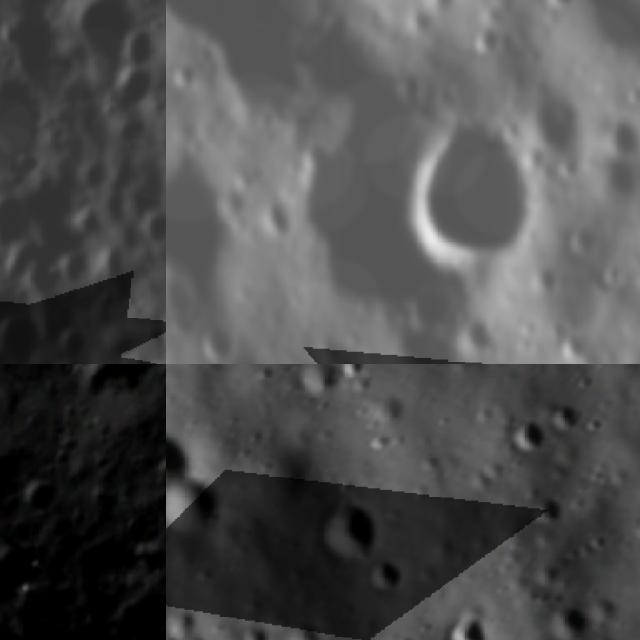crater: (411, 96, 547, 283), (166, 153, 240, 300), (0, 80, 55, 186), (2, 9, 62, 100), (69, 0, 140, 75), (316, 494, 393, 560), (78, 364, 166, 414), (166, 477, 228, 540), (9, 466, 69, 531), (121, 154, 166, 231), (110, 65, 166, 117), (187, 314, 242, 364), (0, 311, 46, 364), (458, 314, 508, 360), (0, 197, 38, 256), (50, 318, 98, 364), (0, 601, 54, 640), (508, 412, 550, 462), (359, 552, 407, 592), (465, 19, 508, 63), (567, 219, 603, 268), (62, 244, 97, 292), (95, 242, 129, 290), (166, 416, 187, 493), (296, 364, 342, 399), (550, 600, 590, 640), (444, 610, 495, 640), (530, 491, 565, 533), (545, 395, 582, 434), (166, 602, 202, 636), (284, 622, 330, 640), (240, 621, 277, 640), (618, 78, 640, 109), (333, 364, 369, 381), (537, 0, 575, 15)
